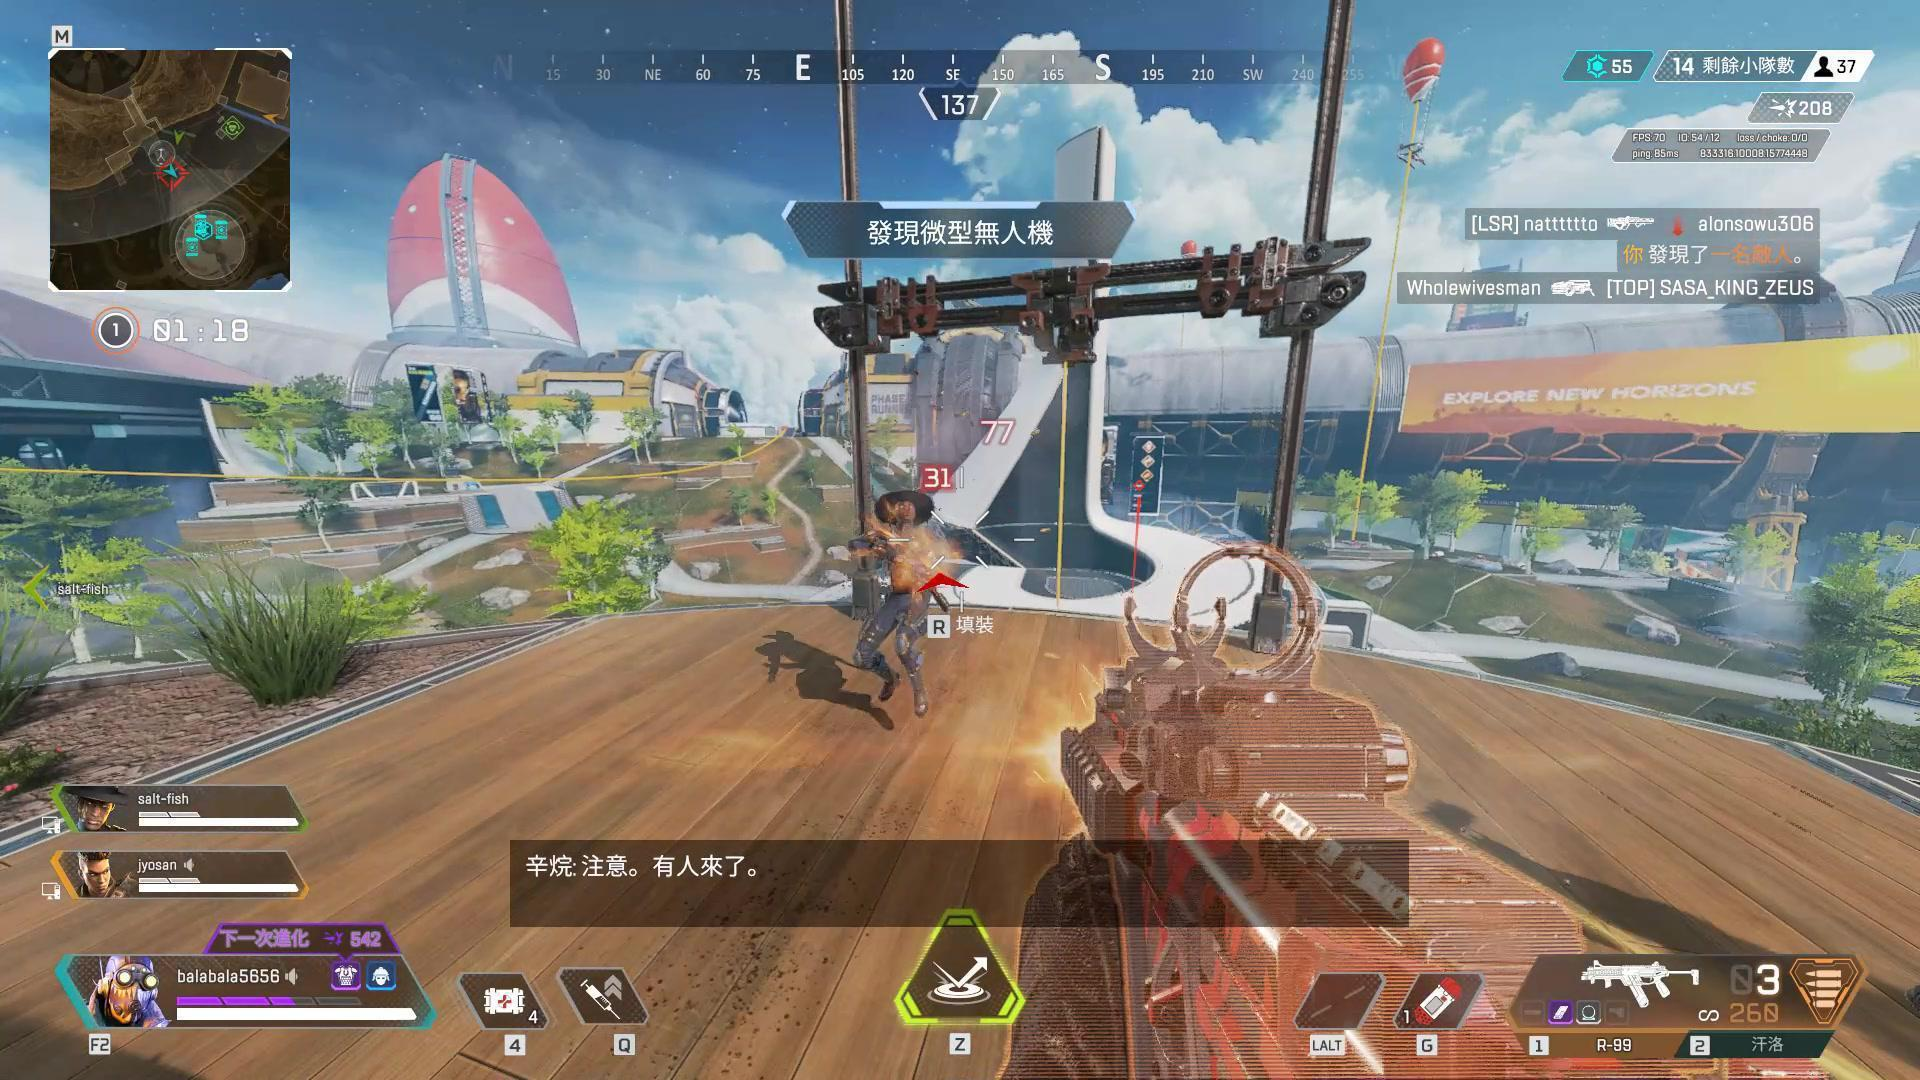avatar: (867, 490, 933, 718)
